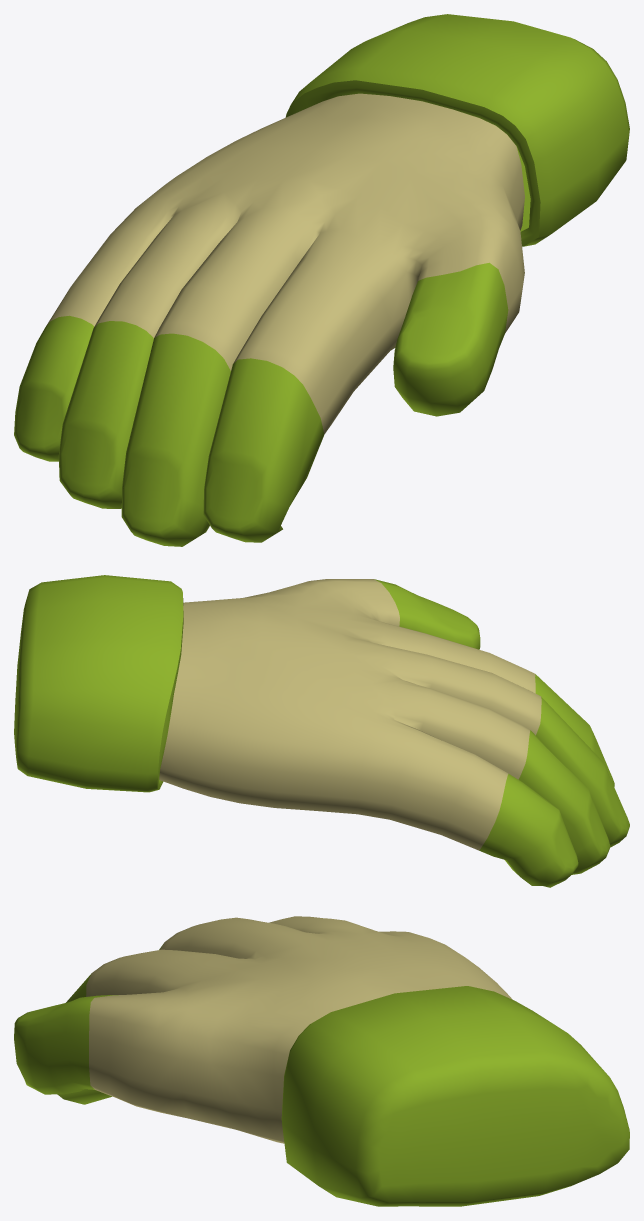
The model's file is SwapSlot-Glove.fbx.
3 views of the same model, one above another, from view 1: azimuth 30°, elevation 25°; view 2: azimuth 150°, elevation 25°; view 3: azimuth 270°, elevation 25° (orthographic). The views are drawn at different scales.
Visible parts, largest first — view 1: SwapSlot-Glove; view 2: SwapSlot-Glove; view 3: SwapSlot-Glove.
Boxes of the visible parts, left/top/right/bottom form: SwapSlot-Glove: left=14, top=14, right=629, bottom=546; SwapSlot-Glove: left=14, top=575, right=629, bottom=887; SwapSlot-Glove: left=14, top=916, right=629, bottom=1206.
Size of the model in its own units: 14.1 by 6.22 by 11.77.
Materials: 1 (1 with a texture image).
